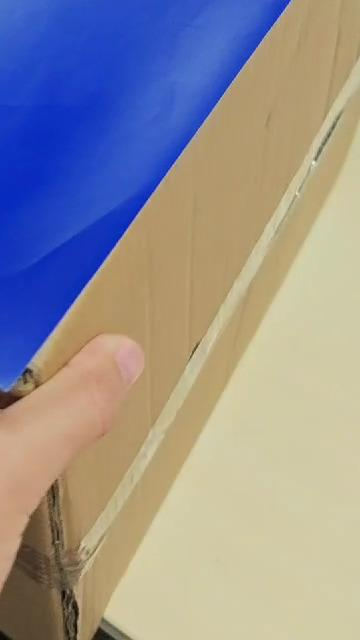B_R1: (0, 0, 142, 66)
